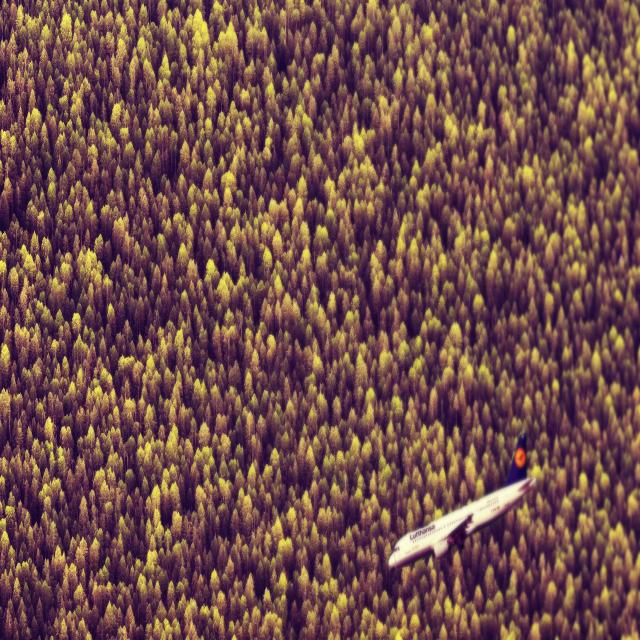airplane: (387, 431, 536, 572)
